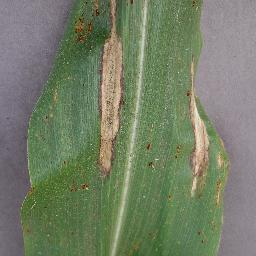Corn_Blight: (180, 54, 239, 248), (103, 0, 125, 182), (71, 1, 100, 48), (136, 140, 178, 172), (59, 178, 92, 197), (23, 178, 43, 200), (18, 220, 36, 244)
